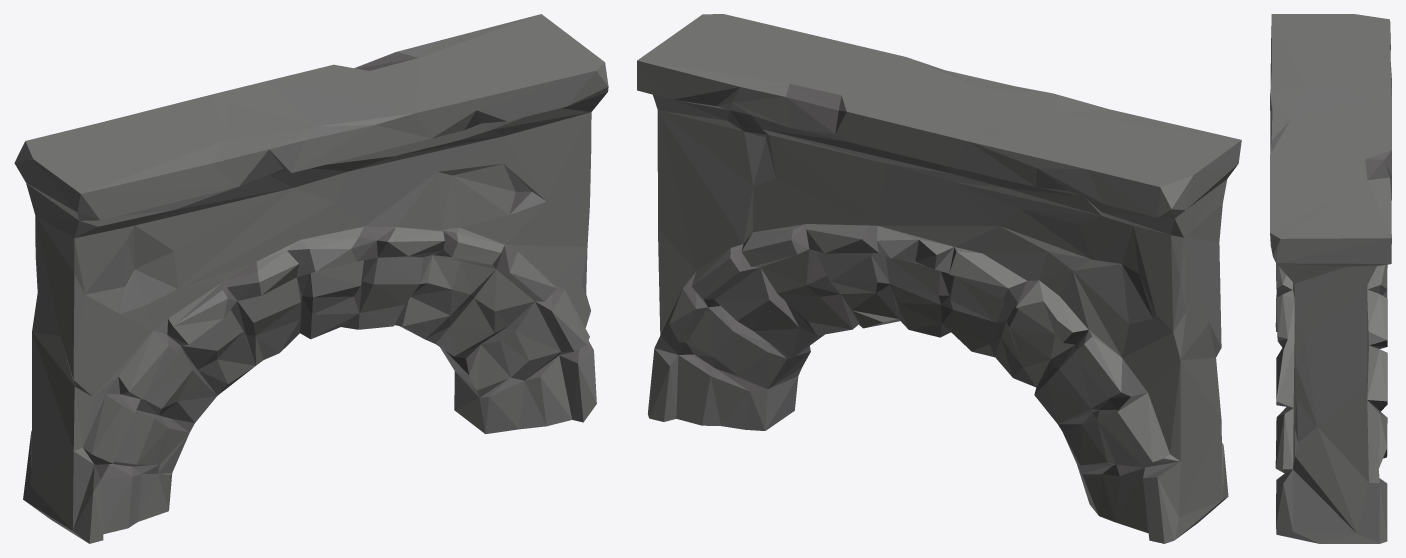
File: SM_Env_Wall_Archway_02.FBX
3 views of the same model, side by side, from view 1: azimuth 30°, elevation 25°; view 2: azimuth 150°, elevation 25°; view 3: azimuth 270°, elevation 25° (orthographic). The views are drawn at different scales.
Visible parts, largest first — view 1: SM_Env_Wall_Archway_02; view 2: SM_Env_Wall_Archway_02; view 3: SM_Env_Wall_Archway_02.
Part boxes in pixels (bbox=[...]): SM_Env_Wall_Archway_02: bbox=[14, 14, 608, 543]; SM_Env_Wall_Archway_02: bbox=[637, 14, 1241, 543]; SM_Env_Wall_Archway_02: bbox=[1270, 14, 1391, 543].
Size of what is drawn, in the model's own units: 513 by 118 by 330.
